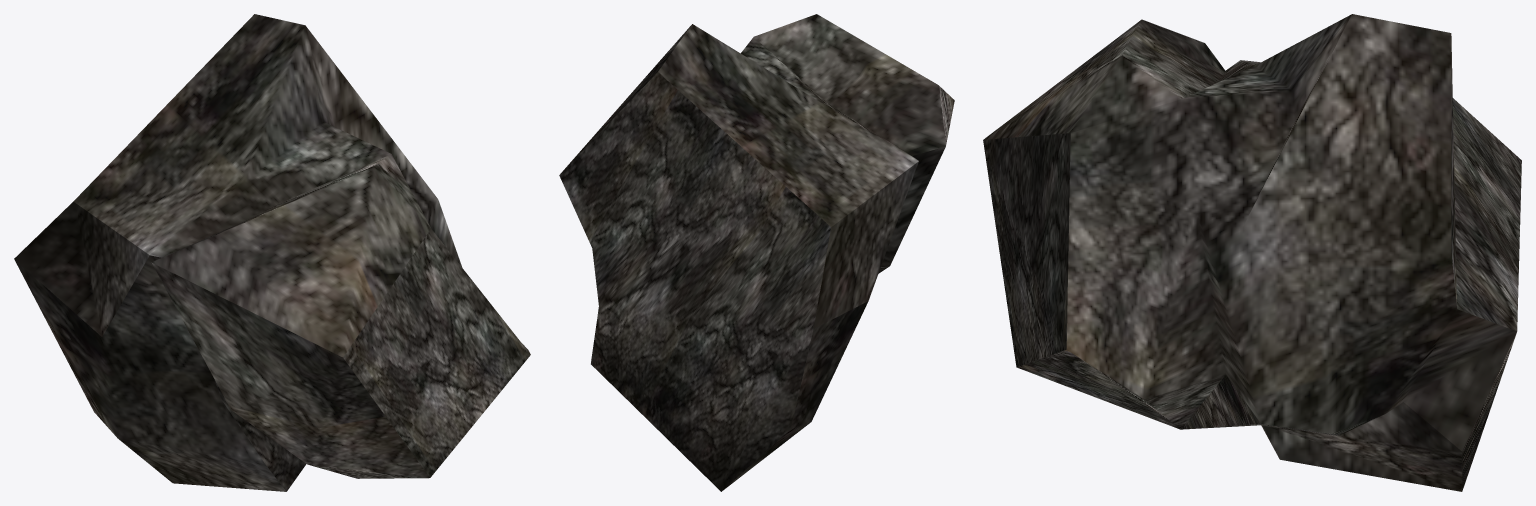
3 views of the same model, side by side, from view 1: azimuth 30°, elevation 25°; view 2: azimuth 150°, elevation 25°; view 3: azimuth 270°, elevation 25° (orthographic). The views are drawn at different scales.
Visible parts, largest first — view 1: model_Object20; view 2: model_Object20; view 3: model_Object20.
Boxes of the visible parts, x1,y1,x2,y2 form: model_Object20: (14,14,530,491); model_Object20: (559,14,954,491); model_Object20: (983,14,1521,491).
Bounding box in the file's own units: 1.09 × 1.39 × 1.3.
1 material, 1 textured.
